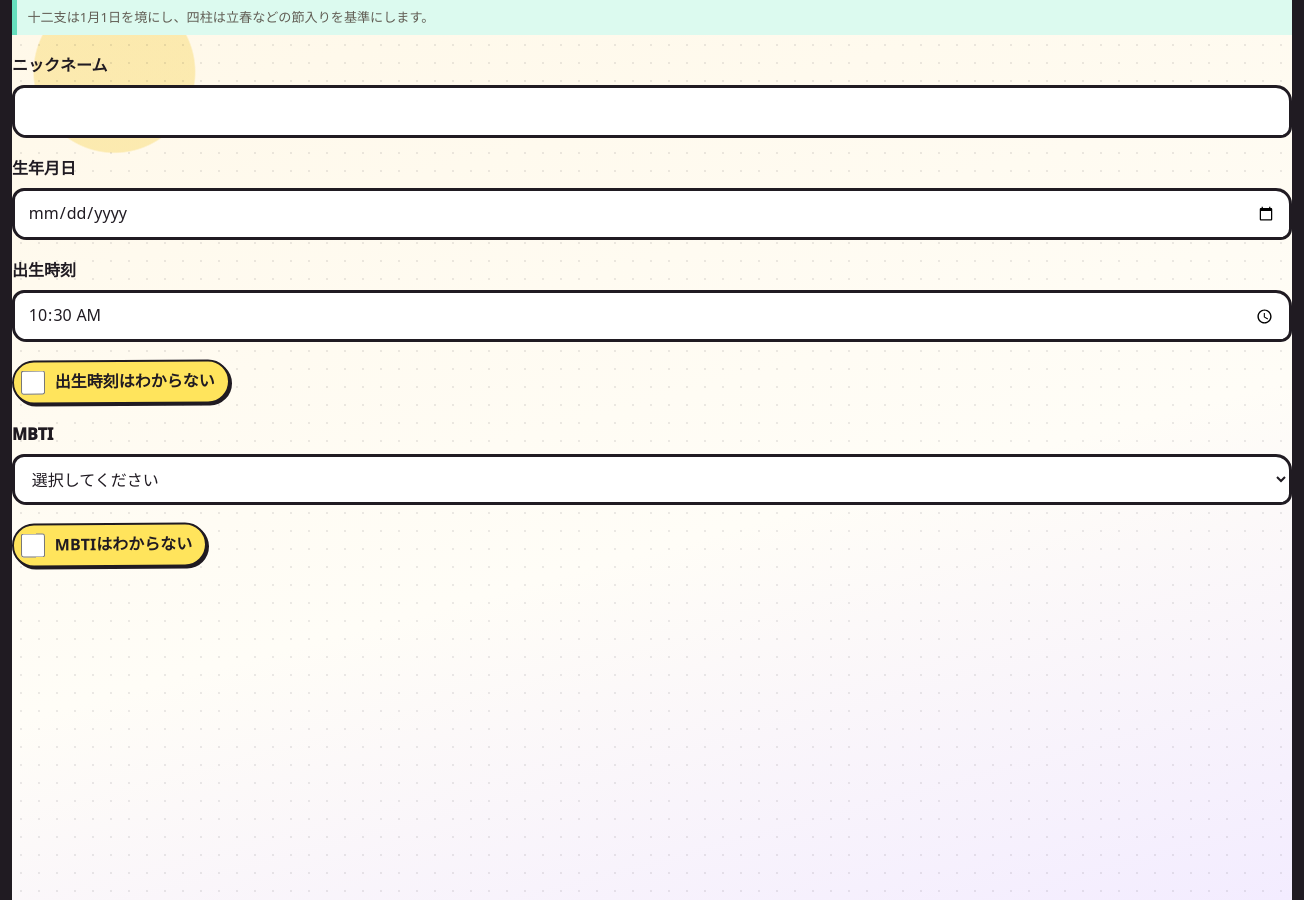
it: ProfileForm › clears and disables time when わからない is selected
This screenshot has width=1304, height=900.
Click the checkbox labelled "出生時刻はわからない": (33, 383) [21,371,45,395]
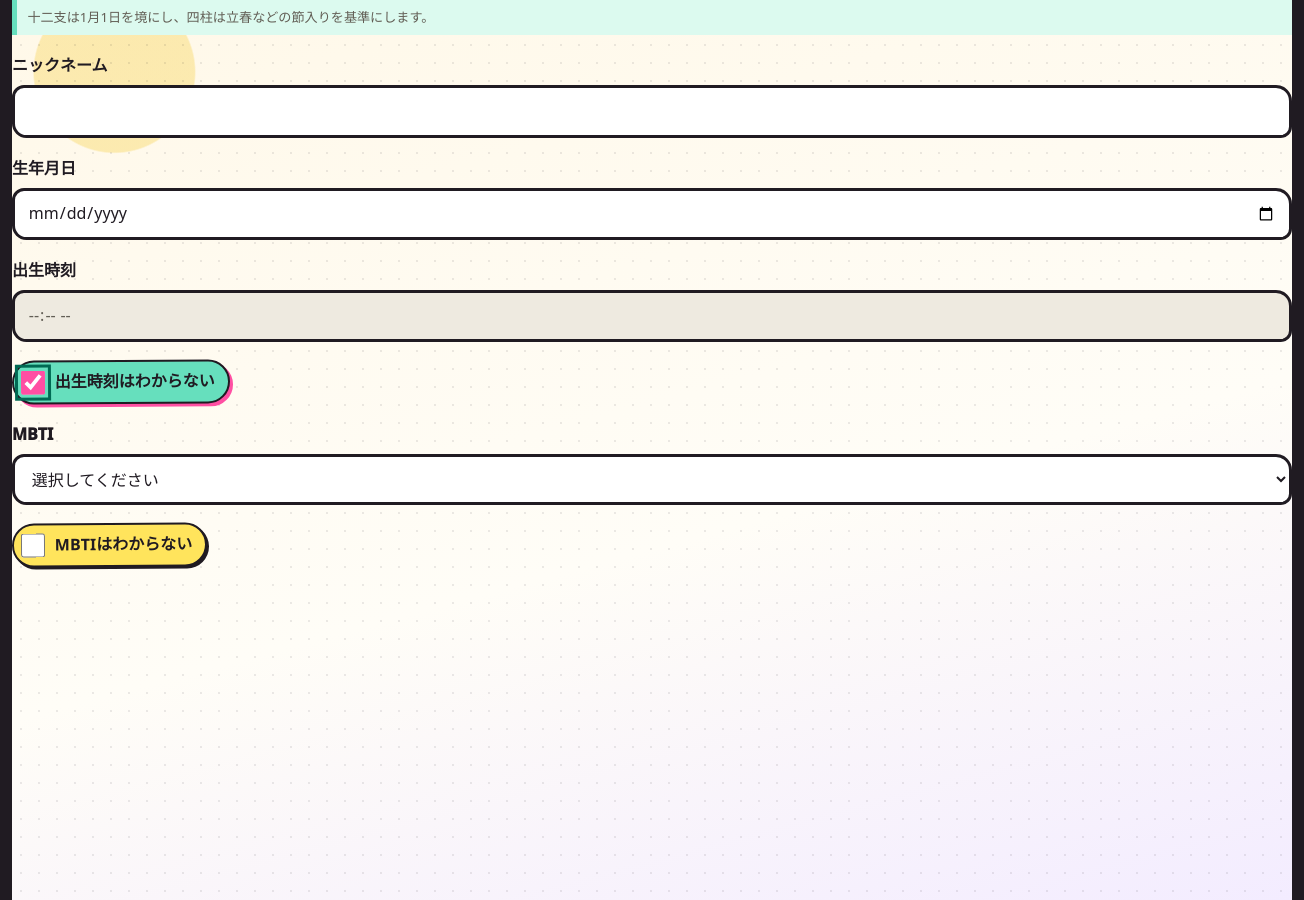
Check: the time field labelled "出生時刻" is disabled, box [12,290,1292,342]
Check: the time field labelled "出生時刻" is empty, box [12,290,1292,342]
